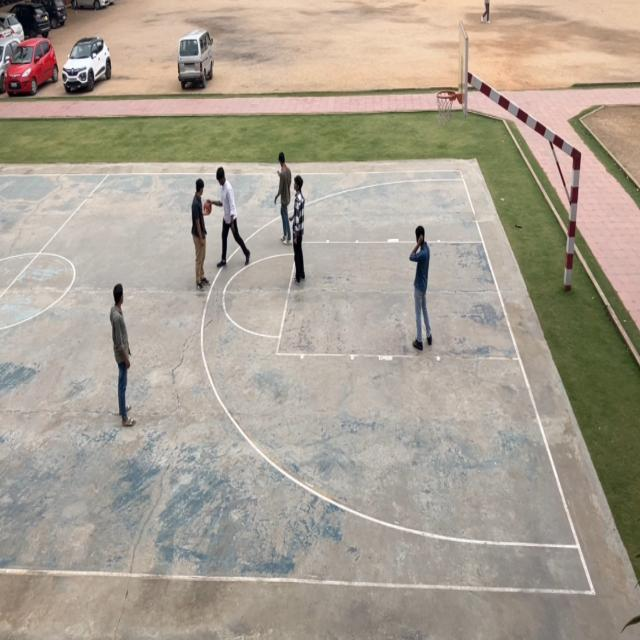basketball: (204, 198, 214, 216)
hoop: (434, 85, 456, 129)
